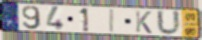1: (78, 7, 90, 32)
4: (45, 5, 66, 33)
9: (21, 5, 43, 31)
I: (108, 8, 116, 34)
K: (134, 10, 153, 35)
U: (155, 8, 183, 37)
